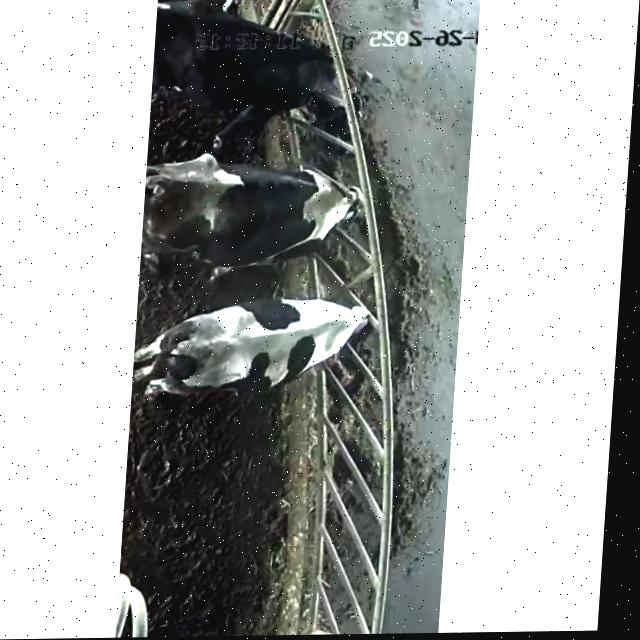eat: (247, 158, 401, 254), (248, 30, 391, 130), (287, 290, 412, 373)
